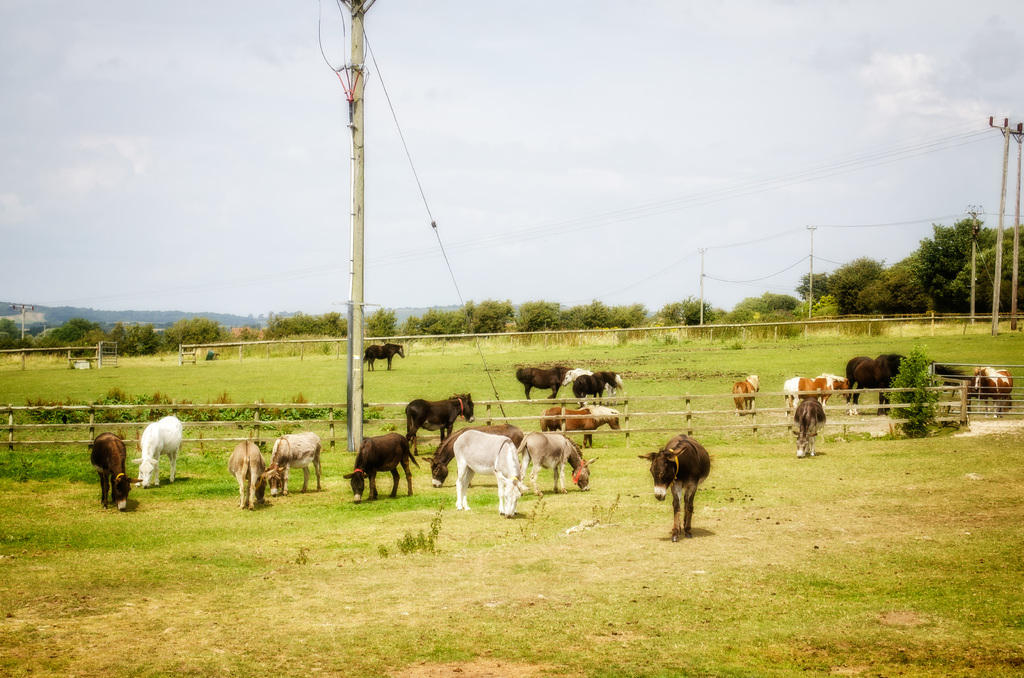Animal: (634, 429, 713, 539), (450, 427, 529, 518), (338, 435, 423, 506), (401, 390, 477, 456), (88, 429, 143, 513), (130, 408, 185, 492), (256, 429, 325, 495), (541, 399, 622, 445), (790, 395, 829, 463), (360, 336, 407, 375), (729, 372, 761, 416)
